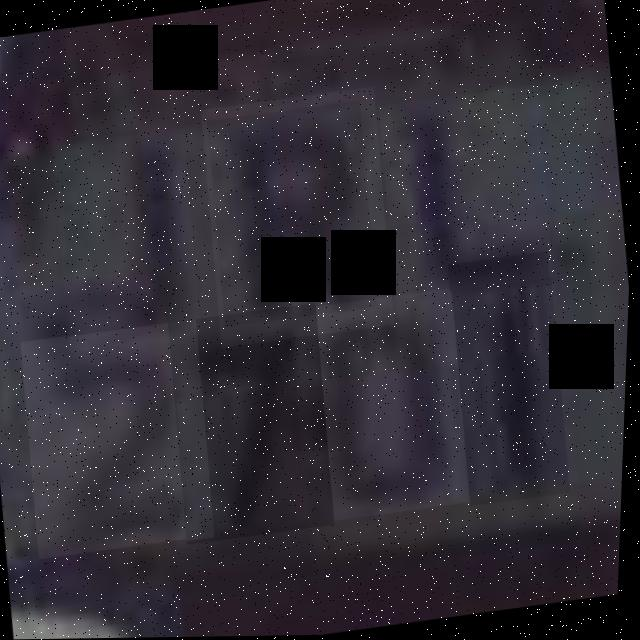0: (312, 289, 479, 522)
1: (444, 252, 580, 507)
2: (17, 318, 225, 561)
7: (164, 303, 345, 545)
J: (374, 85, 563, 300), (47, 129, 209, 352)
P: (195, 87, 403, 348)
R: (202, 100, 385, 328)
